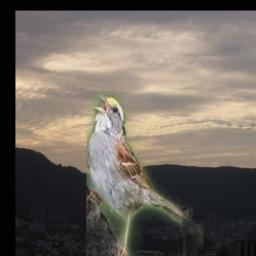Sparrow: (86, 91, 204, 256)
